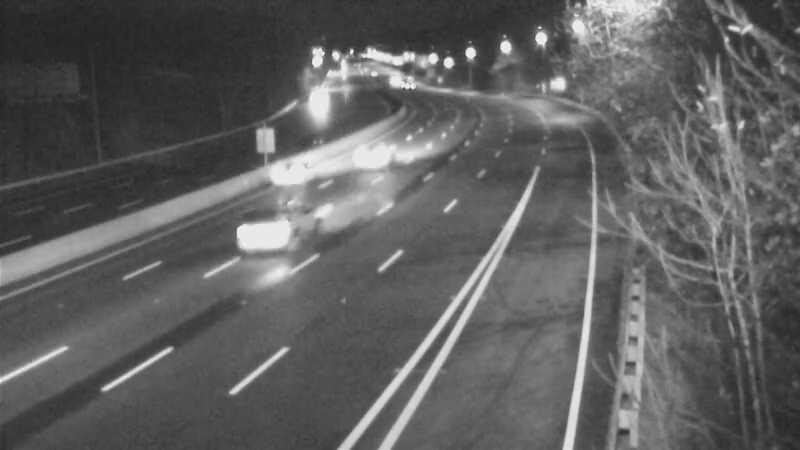vehicle: (334, 119, 414, 199), (249, 134, 329, 214), (238, 188, 318, 268), (363, 54, 413, 104), (376, 57, 426, 107), (288, 78, 338, 128)
